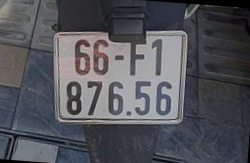Bien-so: (65, 23, 192, 130)
